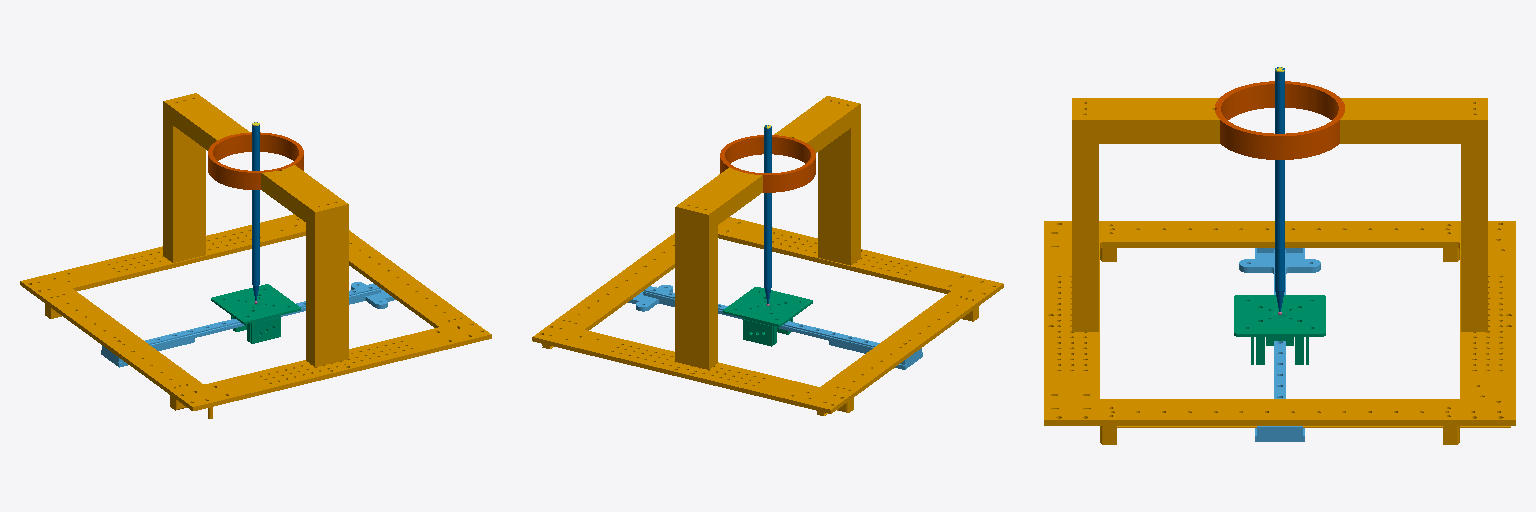
URDF robot description (PModel):
<?xml version='1.0' encoding='utf-8'?>
<robot name="PModel">
    <link name="Plate">
        <inertial>
            <origin xyz="-0.03754788138796412 0.01150991349419208 0.11858215493264501" rpy="0.0 0.0 0.0" />
            <mass value="11.56928326224802" />
            <inertia ixx="0.42236420599790236" iyy="0.24674631383153187" izz="0.46846609766499614" ixy="-0.0002155789022355485" iyz="0.0010705574571508504" ixz="-0.00011153399018874327" />
        </inertial>
        <visual name="Plate_visual">
            <origin xyz="0.0 0.0 0.0" rpy="0.0 0.0 0.0" />
            <geometry>
                <mesh filename="meshes/Plate.stl" scale="0.001 0.001 0.001" />
            </geometry>
        </visual>
        <collision name="Plate_collision">
            <origin xyz="0.0 0.0 0.0" rpy="0.0 0.0 0.0" />
            <geometry>
                <mesh filename="meshes/Plate.stl" scale="0.001 0.001 0.001" />
            </geometry>
        </collision>
    </link>
    <link name="Slide">
        <inertial>
            <origin xyz="0.2101759010303055 -4.220268230437085e-09 -0.004582939325983075" rpy="-2.4651903288156624e-32 -0.0 2.5068298848805874e-63" />
            <mass value="0.8078743429754138" />
            <inertia ixx="0.0001454557619065025" iyy="0.02289734894491685" izz="0.023014012328873172" ixy="-3.56702531457728e-15" iyz="7.453521041581567e-14" ixz="-7.973229210072883e-07" />
        </inertial>
        <visual name="Slide_visual">
            <origin xyz="0.2280571130803945 -0.007248085902775031 0.01818931634365722" rpy="7.957501844957522e-15 1.3877787807813489e-17 1.2490009027032797e-16" />
            <geometry>
                <mesh filename="meshes/Slide.stl" scale="0.001 0.001 0.001" />
            </geometry>
        </visual>
        <collision name="Slide_collision">
            <origin xyz="0.2280571130803945 -0.007248085902775031 0.01818931634365722" rpy="7.957501844957522e-15 1.3877787807813489e-17 1.2490009027032797e-16" />
            <geometry>
                <mesh filename="meshes/Slide.stl" scale="0.001 0.001 0.001" />
            </geometry>
        </collision>
    </link>
    <link name="Trolley">
        <inertial>
            <origin xyz="4.339038590650546e-09 -4.288573400845763e-09 0.004475372880728199" rpy="0.0 -0.0 0.0" />
            <mass value="0.6737833870123419" />
            <inertia ixx="0.0003863140221181255" iyy="0.0003072785331036695" izz="0.0004919562623250774" ixy="1.0329737584615104e-16" iyz="-3.005917857199182e-13" ixz="-2.519803466033862e-09" />
        </inertial>
        <visual name="Trolley_visual">
            <origin xyz="-0.026818886919610596 -0.007248085902774595 0.015189316343659902" rpy="7.409654487200414e-15 1.3877787807812756e-17 1.2490009027040269e-16" />
            <geometry>
                <mesh filename="meshes/Trolley.stl" scale="0.001 0.001 0.001" />
            </geometry>
        </visual>
        <collision name="Trolley_collision">
            <origin xyz="-0.026818886919610596 -0.007248085902774595 0.015189316343659902" rpy="7.409654487200414e-15 1.3877787807812756e-17 1.2490009027040269e-16" />
            <geometry>
                <mesh filename="meshes/Trolley.stl" scale="0.001 0.001 0.001" />
            </geometry>
        </collision>
    </link>
    <link name="PenTip">
        <inertial>
            <origin xyz="4.3385401271578415e-09 -4.19680776575504e-09 0.0006350017563167043" rpy="0.0 -0.0 -5.83407682299482e-62" />
            <mass value="0.0007103840924338144" />
            <inertia ixx="4.12360830975378e-09" iyy="4.123609350492998e-09" izz="8.056254576796718e-09" ixy="3.759590436056291e-37" iyz="-4.2264325097156525e-22" ixz="1.6940658945086007e-21" />
        </inertial>
        <visual name="PenTip_visual">
            <origin xyz="0.037461150000002386 -0.00737652130218684 -0.301984441550353" rpy="7.041564729439317e-15 1.5265566588595898e-16 -3.308734648911287e-16" />
            <geometry>
                <mesh filename="meshes/PenTip.stl" scale="0.001 0.001 0.001" />
            </geometry>
        </visual>
        <collision name="PenTip_collision">
            <origin xyz="0.037461150000002386 -0.00737652130218684 -0.301984441550353" rpy="7.041564729439317e-15 1.5265566588595898e-16 -3.308734648911287e-16" />
            <geometry>
                <mesh filename="meshes/PenTip.stl" scale="0.001 0.001 0.001" />
            </geometry>
        </collision>
    </link>
    <link name="Pen">
        <inertial>
            <origin xyz="4.339041437262381e-09 -4.196806834277922e-09 0.14012169292155677" rpy="0.0 -0.0 0.0" />
            <mass value="0.12813970785247497" />
            <inertia ixx="0.0006539514484837977" iyy="0.0006539514484850302" izz="1.525711179319099e-06" ixy="-2.710505431213761e-20" iyz="5.068645156369733e-18" ixz="5.2475385148298415e-17" />
        </inertial>
        <visual name="Pen_visual">
            <origin xyz="0.037461150000002386 -0.0073765213021867735 -0.03980346155035298" rpy="7.263609334364347e-15 1.5265566588595902e-16 -3.3087346489112867e-16" />
            <geometry>
                <mesh filename="meshes/Pen.stl" scale="0.001 0.001 0.001" />
            </geometry>
        </visual>
        <!-- Shaft along Pen +Z: YBAll/Pen joint at link origin (z=0) to Pen/PenTip joint (z=0.26218098) = bottom of PenTip link. -->
        <collision name="Pen_collision">
            <origin xyz="0 0 0.13109049" rpy="0 0 0" />
            <geometry>
                <cylinder radius="0.005" length="0.26218098" />
            </geometry>
        </collision>
    </link>
    <link name="Ring">
        <inertial>
            <origin xyz="4.3390381154750915e-09 -0.0635978622868566 0.012712070465507602" rpy="0.0 -0.0 -2.430865342914509e-63" />
            <mass value="0.47915290579320996" />
            <inertia ixx="0.0008984468857342607" iyy="0.0009013786324385993" izz="0.0017483247610926814" ixy="3.4043948216044845e-17" iyz="-3.616421205994669e-07" ixz="-1.7222550207397205e-18" />
        </inertial>
        <visual name="Ring_visual">
            <origin xyz="0.03746115 -0.0561161700000021 0.2609052699999996" rpy="-3.141592653589785 -1.540743955509789e-33 9.472278132566588e-48" />
            <geometry>
                <mesh filename="meshes/Ring.stl" scale="0.001 0.001 0.001" />
            </geometry>
        </visual>
        <!-- 16-segment ring proxy on circle r=0.02 m: halves wedge gaps vs octagon; tall Z extent so
             tilted pen/cylinder still hits slabs; boxes overlap tangentially for continuity. -->
        <collision name="Ring_collision_seg_0">
            <origin xyz="2.000000433903811534e-02 -6.359786228685659903e-02 0.012712070465507602" rpy="0 0 1.5707963267948966" />
            <geometry>
                <box size="0.026 0.018 0.065" />
            </geometry>
        </collision>
        <collision name="Ring_collision_seg_1">
            <origin xyz="1.847759498926385135e-02 -5.594419363955480118e-02 0.012712070465507602" rpy="0 0 1.9634954084936207" />
            <geometry>
                <box size="0.026 0.018 0.065" />
            </geometry>
        </collision>
        <collision name="Ring_collision_seg_2">
            <origin xyz="1.414213996276906735e-02 -4.945572666312565008e-02 0.012712070465507602" rpy="0 0 2.356194490192345" />
            <geometry>
                <box size="0.026 0.018 0.065" />
            </geometry>
        </collision>
        <collision name="Ring_collision_seg_3">
            <origin xyz="7.653672986339912776e-03 -4.512027163663086260e-02 0.012712070465507602" rpy="0 0 2.748893571891069" />
            <geometry>
                <box size="0.026 0.018 0.065" />
            </geometry>
        </collision>
        <collision name="Ring_collision_seg_4">
            <origin xyz="4.339038116699738202e-09 -4.359786228685659515e-02 0.012712070465507602" rpy="0 0 3.141592653589793" />
            <geometry>
                <box size="0.026 0.018 0.065" />
            </geometry>
        </collision>
        <collision name="Ring_collision_seg_5">
            <origin xyz="-7.653664308263678599e-03 -4.512027163663086260e-02 0.012712070465507602" rpy="0 0 3.5342917352885173" />
            <geometry>
                <box size="0.026 0.018 0.065" />
            </geometry>
        </collision>
        <collision name="Ring_collision_seg_6">
            <origin xyz="-1.414213128469283404e-02 -4.945572666312564314e-02 0.012712070465507602" rpy="0 0 3.9269908169872414" />
            <geometry>
                <box size="0.026 0.018 0.065" />
            </geometry>
        </collision>
        <collision name="Ring_collision_seg_7">
            <origin xyz="-1.847758631118762152e-02 -5.594419363955480118e-02 0.012712070465507602" rpy="0 0 4.319689898685965" />
            <geometry>
                <box size="0.026 0.018 0.065" />
            </geometry>
        </collision>
        <collision name="Ring_collision_seg_8">
            <origin xyz="-1.999999566096188550e-02 -6.359786228685659903e-02 0.012712070465507602" rpy="0 0 4.71238898038469" />
            <geometry>
                <box size="0.026 0.018 0.065" />
            </geometry>
        </collision>
        <collision name="Ring_collision_seg_9">
            <origin xyz="-1.847758631118762152e-02 -7.125153093415839689e-02 0.012712070465507602" rpy="0 0 5.105088062083414" />
            <geometry>
                <box size="0.026 0.018 0.065" />
            </geometry>
        </collision>
        <collision name="Ring_collision_seg_10">
            <origin xyz="-1.414213128469283924e-02 -7.773999791058755493e-02 0.012712070465507602" rpy="0 0 5.497787143782138" />
            <geometry>
                <box size="0.026 0.018 0.065" />
            </geometry>
        </collision>
        <collision name="Ring_collision_seg_11">
            <origin xyz="-7.653664308263690742e-03 -8.207545293708232159e-02 0.012712070465507602" rpy="0 0 5.890486225480862" />
            <geometry>
                <box size="0.026 0.018 0.065" />
            </geometry>
        </collision>
        <collision name="Ring_collision_seg_12">
            <origin xyz="4.339038111801151454e-09 -8.359786228685660292e-02 0.012712070465507602" rpy="0 0 6.283185307179586" />
            <geometry>
                <box size="0.026 0.018 0.065" />
            </geometry>
        </collision>
        <collision name="Ring_collision_seg_13">
            <origin xyz="7.653672986339916245e-03 -8.207545293708233547e-02 0.012712070465507602" rpy="0 0 6.675884388878311" />
            <geometry>
                <box size="0.026 0.018 0.065" />
            </geometry>
        </collision>
        <collision name="Ring_collision_seg_14">
            <origin xyz="1.414213996276906214e-02 -7.773999791058755493e-02 0.012712070465507602" rpy="0 0 7.0685834705770345" />
            <geometry>
                <box size="0.026 0.018 0.065" />
            </geometry>
        </collision>
        <collision name="Ring_collision_seg_15">
            <origin xyz="1.847759498926384442e-02 -7.125153093415841077e-02 0.012712070465507602" rpy="0 0 7.461282552275758" />
            <geometry>
                <box size="0.026 0.018 0.065" />
            </geometry>
        </collision>
    </link>
    <link name="YBAll">
        <inertial>
            <origin xyz="4.339038084388847e-09 4.196805796219394e-09 -0.002146322047854006" rpy="0.0 -0.0 0.0" />
            <mass value="0.00032512019084985527" />
            <inertia ixx="5.990931896163034e-10" iyy="5.99093189616621e-10" izz="5.990931896167798e-10" ixy="-2.1599466395941627e-37" iyz="5.29395592033941e-23" ixz="-1.059518666782103e-22" />
        </inertial>
        <visual name="YBAll_visual">
            <origin xyz="0.03746115000000002 0.007383829999999924 0.03980704122401757" rpy="-3.1415926535897913 -3.0184188481996197e-16 -5.970864310086585e-31" />
            <geometry>
                <mesh filename="meshes/YBAll.stl" scale="0.001 0.001 0.001" />
            </geometry>
        </visual>
        <collision name="YBAll_collision">
            <origin xyz="0.03746115000000002 0.007383829999999924 0.03980704122401757" rpy="-3.1415926535897913 -3.0184188481996197e-16 -5.970864310086585e-31" />
            <geometry>
                <mesh filename="meshes/YBAll.stl" scale="0.001 0.001 0.001" />
            </geometry>
        </collision>
    </link>
    <link name="StepperA">
        <inertial>
            <origin xyz="0 0 0" rpy="0 0 0" />
            <mass value="0.001" />
            <inertia ixx="1e-6" iyy="1e-6" izz="1e-6" ixy="0" iyz="0" ixz="0" />
        </inertial>
    </link>
    <link name="StepperB">
        <inertial>
            <origin xyz="0 0 0" rpy="0 0 0" />
            <mass value="0.001" />
            <inertia ixx="1e-6" iyy="1e-6" izz="1e-6" ixy="0" iyz="0" ixz="0" />
        </inertial>
    </link>
    <joint name="Plate_Slider-7" type="prismatic">
        <origin xyz="-0.24736115000000386 0.010499831876711354 0.019555270000000197" rpy="-7.853418436398915e-15 -1.3877787807814423e-17 1.1449653519382065e-31" />
        <parent link="Plate" />
        <child link="Slide" />
        <axis xyz="2.1895288505075267e-47 1.0 -2.0957627994126344e-16" />
        <limit lower="-0.015" upper="0.015" effort="1000000" velocity="1000000" />
    </joint>
    <joint name="Slide_Slider-8" type="prismatic">
        <origin xyz="0.20990000000000006 0.0 0.0029999999999999983" rpy="-5.711034943567233e-15 1.540743955509791e-33 1.0303725202480317e-32" />
        <parent link="Slide" />
        <child link="Trolley" />
        <axis xyz="1.0 3.0333396624122086e-32 3.798154774267918e-18" />
        <limit lower="-0.015" upper="0.015" effort="1000000" velocity="1000000" />
    </joint>
    <joint name="Plate_Rigid-12" type="fixed">
        <origin xyz="-0.037461150000000706 -0.05300016812328655 0.26090527000000374" rpy="3.141592653589777 -1.3877787807814423e-17 1.1449653519382065e-31" />
        <parent link="Plate" />
        <child link="Ring" />
    </joint>
    <joint name="Trolley_Revolute-15" type="revolute">
        <origin xyz="0.0 -9.43689570931383e-17 0.017255500000000003" rpy="-3.1415926535897856 2.1932527634641165e-46 -3.986674984882211e-32" />
        <parent link="Trolley" />
        <child link="YBAll" />
        <axis xyz="1.0 0.0 0.0" />
        <limit lower="-0.349066" upper="0.349066" effort="1000000" velocity="1000000" />
    </joint>
    <joint name="YBAll_Revolute-16" type="revolute">
        <origin xyz="0.0 0.0 0.0" rpy="3.1415926535897913 -6.030959930087038e-47 -2.956302464634177e-32" />
        <parent link="YBAll" />
        <child link="Pen" />
        <axis xyz="0.0 1.0 0.0" />
        <limit lower="-0.349066" upper="0.349066" effort="1000000" velocity="1000000" />
    </joint>
    <joint name="Pen_Rigid-17" type="fixed">
        <origin xyz="0.0 0.0 0.26218098" rpy="2.2204460492502894e-16 -2.465190328815662e-32 -2.4147374993963502e-32" />
        <parent link="Pen" />
        <child link="PenTip" />
    </joint>
    <joint name="StepperA_joint" type="continuous">
        <origin xyz="0.18 0.18 0.02" rpy="0 0 0" />
        <parent link="Plate" />
        <child link="StepperA" />
        <axis xyz="0 0 1" />
    </joint>
    <joint name="StepperB_joint" type="continuous">
        <origin xyz="-0.18 0.18 0.02" rpy="0 0 0" />
        <parent link="Plate" />
        <child link="StepperB" />
        <axis xyz="0 0 1" />
    </joint>
    <!--
      Motor mixing definition for controller code:
        k = 0.03839 / (2*pi)  [m/rad]  (38.39 mm travel per motor revolution)
        x_trolley = -0.5 * k * (thetaA + thetaB)  -> Slide_Slider-8
        y_slide   = -0.5 * k * (thetaA - thetaB)  -> Plate_Slider-7

      This gives:
        - A cw, B ccw (equal magnitude): pure -Y slide motion
        - A cw, B cw  (equal magnitude): pure -X trolley motion
      URDF cannot natively enforce this 2-motor coupling; apply in your control layer.
    -->
</robot>

--- What the picture shows (computed from the rendered views, not written in the file) ---
3 views of the same robot in one strip: view 1: azimuth 30°, elevation 25°; view 2: azimuth 150°, elevation 25°; view 3: azimuth 270°, elevation 25° (orthographic).
Model PModel with 9 links and 8 joints (2 revolute, 2 continuous, 2 prismatic, 2 fixed), rooted at Plate, posed all joints at 0.
Visible links, largest first — view 1: Plate, Ring, Trolley, Slide, Pen; view 2: Plate, Ring, Trolley, Slide, Pen; view 3: Plate, Ring, Trolley, Slide, Pen.
Boxes of the visible links, x1,y1,x2,y2 form: Plate: (20, 93, 491, 418); Ring: (208, 132, 303, 189); Trolley: (211, 284, 300, 343); Slide: (101, 282, 395, 367); Pen: (252, 122, 259, 300); Plate: (532, 96, 1003, 415); Ring: (720, 135, 815, 192); Trolley: (723, 287, 812, 346); Slide: (628, 285, 922, 369); Pen: (764, 125, 771, 303); Plate: (1044, 98, 1515, 444); Ring: (1215, 81, 1344, 159); Trolley: (1234, 295, 1325, 364); Slide: (1239, 248, 1320, 441); Pen: (1275, 67, 1284, 311).
Bounding box of the posed robot: 0.4572 × 0.4572 × 0.306 m (x, y, z).
Meshes: 7 distinct files referenced, 7 mesh visuals loaded (7 binary STL).
